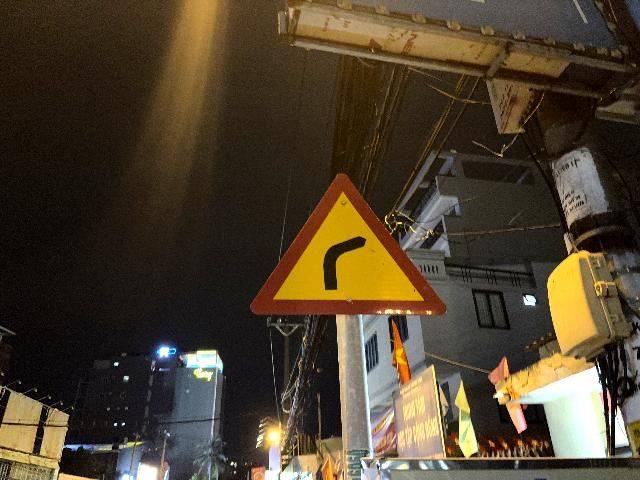cho-ngoat-nguy-hiem-ben-phai: (247, 173, 448, 317)
